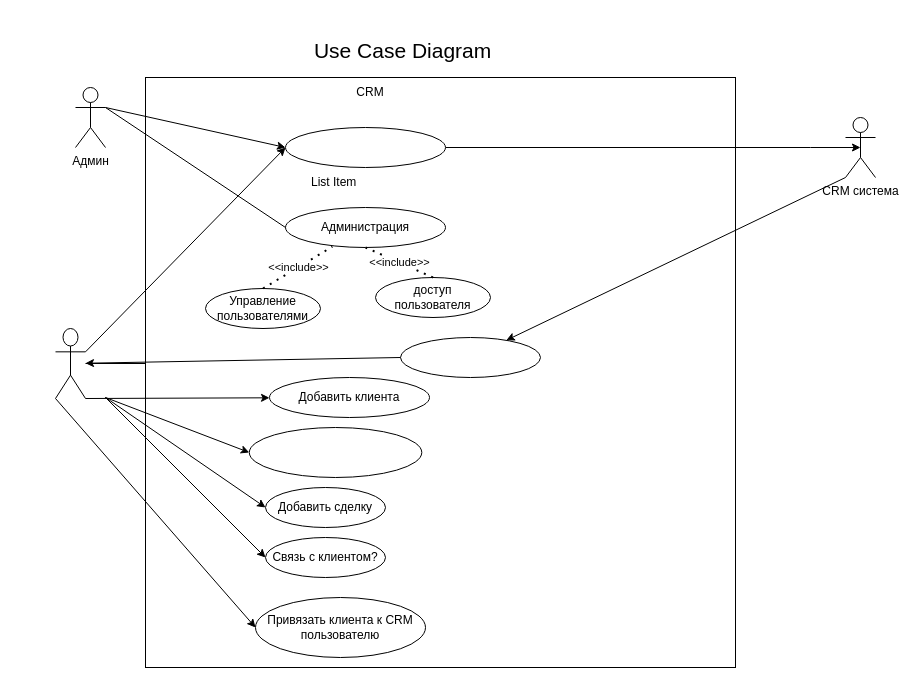
The diagram is 916 pixels wide and 685 high, and some of its shapes have lost their labels. The shapes that lost their labels are listed below. From the top down, each one's centre as x and y in pixels, then its label:
At pixel 365 147: "Авторизоваться".
At pixel 70 363: "CRM пользователь".
At pixel 470 357: "Напоминание".
At pixel 335 452: "Добавить информацию о клиенте".
